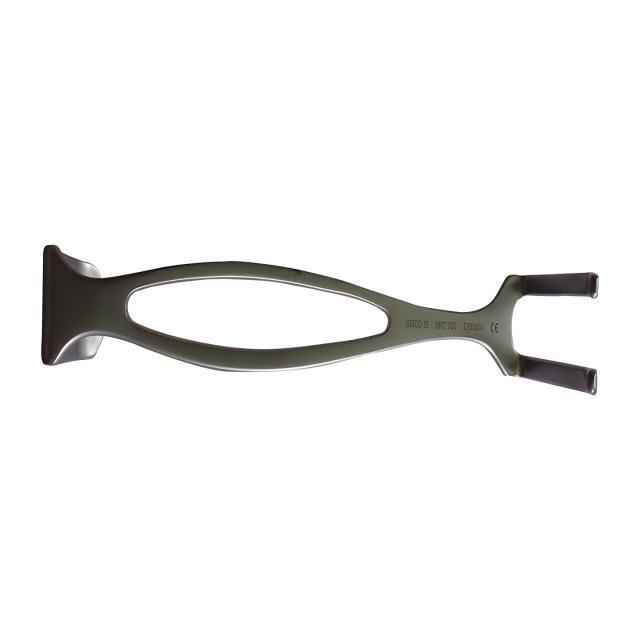Czerny Retractor: (40, 234, 602, 404)
